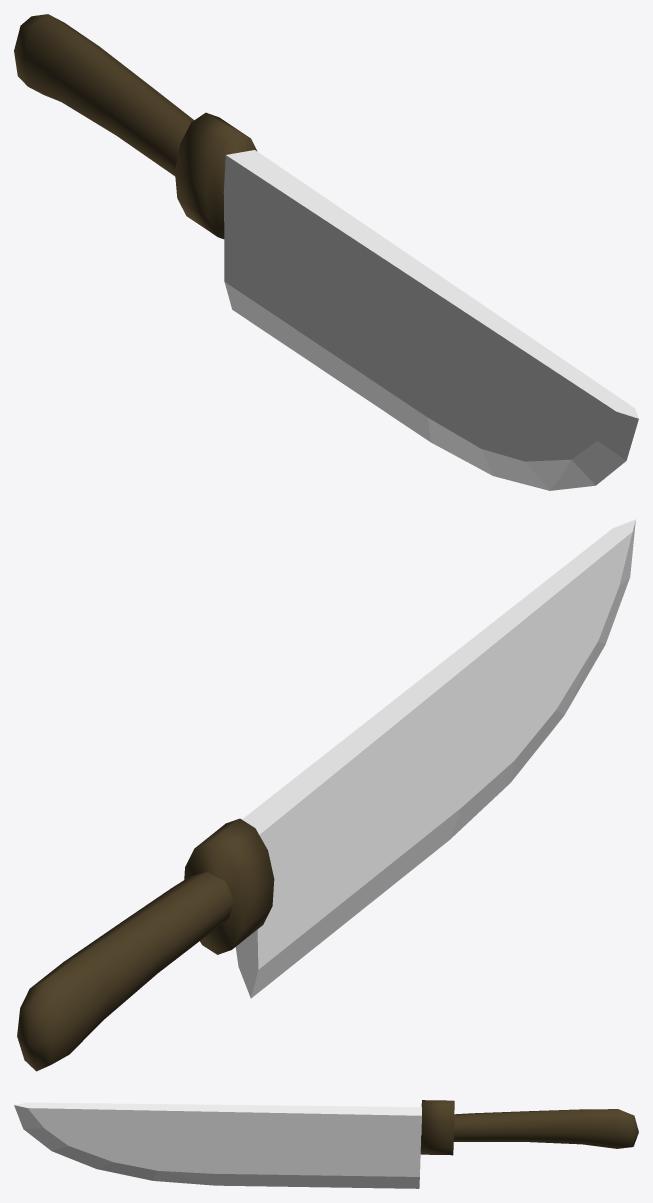
File: Knife.fbx
The picture shows the model from 3 angles, top to bottom: view 1: azimuth 30°, elevation 25°; view 2: azimuth 150°, elevation 25°; view 3: azimuth 270°, elevation 25°; orthographic projection. The views are drawn at different scales.
Visible parts, largest first — view 1: Knife; view 2: Knife; view 3: Knife.
Boxes of the visible parts, box(x1,y1,x2,y2) form: Knife: box(14, 14, 638, 490); Knife: box(17, 519, 635, 1071); Knife: box(14, 1100, 638, 1188).
Size of the model in its own units: 0.0319 by 0.092 by 0.578.
